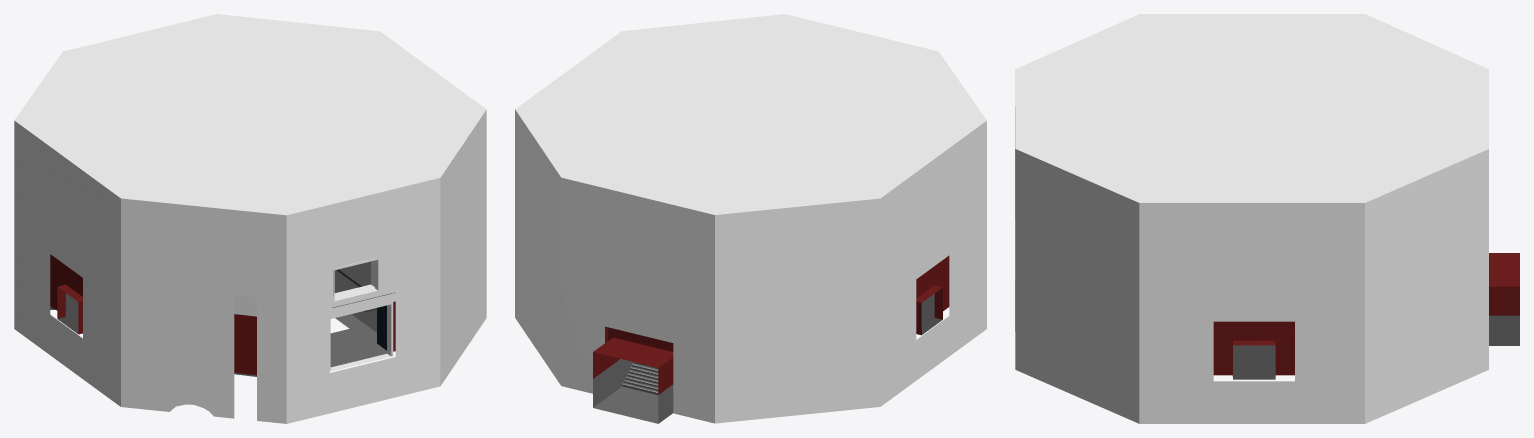
The model's file is SM_H_Building_Tide_Hall_01_InterWall_ATLAS.fbx.
3 views of the same model, side by side, from view 1: azimuth 30°, elevation 25°; view 2: azimuth 150°, elevation 25°; view 3: azimuth 270°, elevation 25° (orthographic). The views are drawn at different scales.
Visible parts, largest first — view 1: SM_H_Building_Tide_Hall_01_InterWall_ATLAS; view 2: SM_H_Building_Tide_Hall_01_InterWall_ATLAS; view 3: SM_H_Building_Tide_Hall_01_InterWall_ATLAS.
Part boxes in pixels (box(x1,y1,x2,y2)): SM_H_Building_Tide_Hall_01_InterWall_ATLAS: box(14, 14, 486, 423); SM_H_Building_Tide_Hall_01_InterWall_ATLAS: box(515, 14, 986, 423); SM_H_Building_Tide_Hall_01_InterWall_ATLAS: box(1015, 14, 1519, 423).
Bounding box in the file's own units: 3033 × 3423 × 1653.
